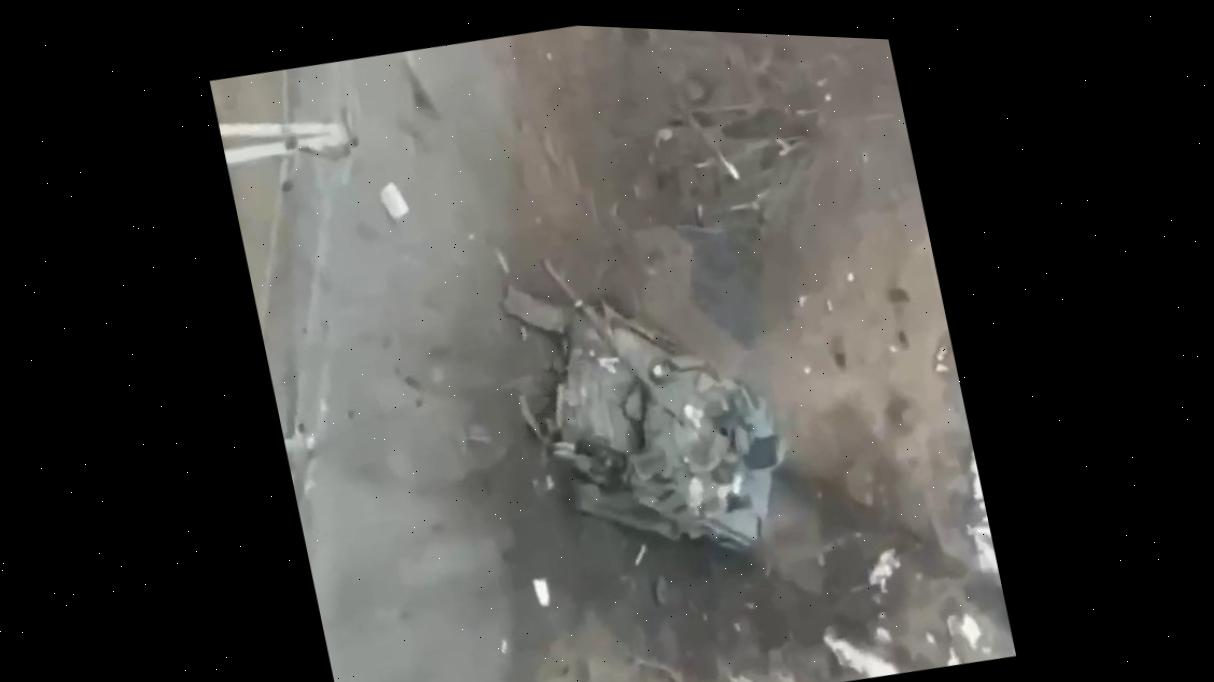tank: (490, 216, 807, 592)
